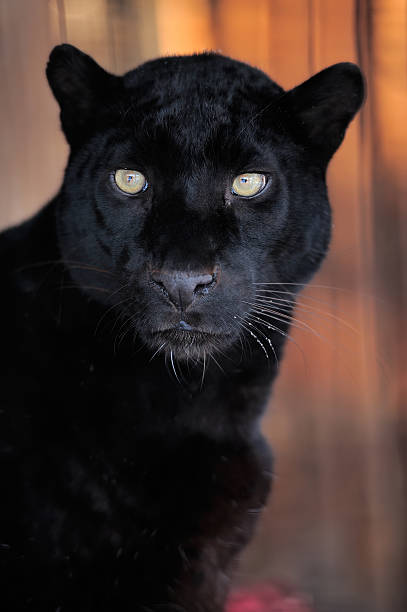panther: (23, 32, 407, 400)
